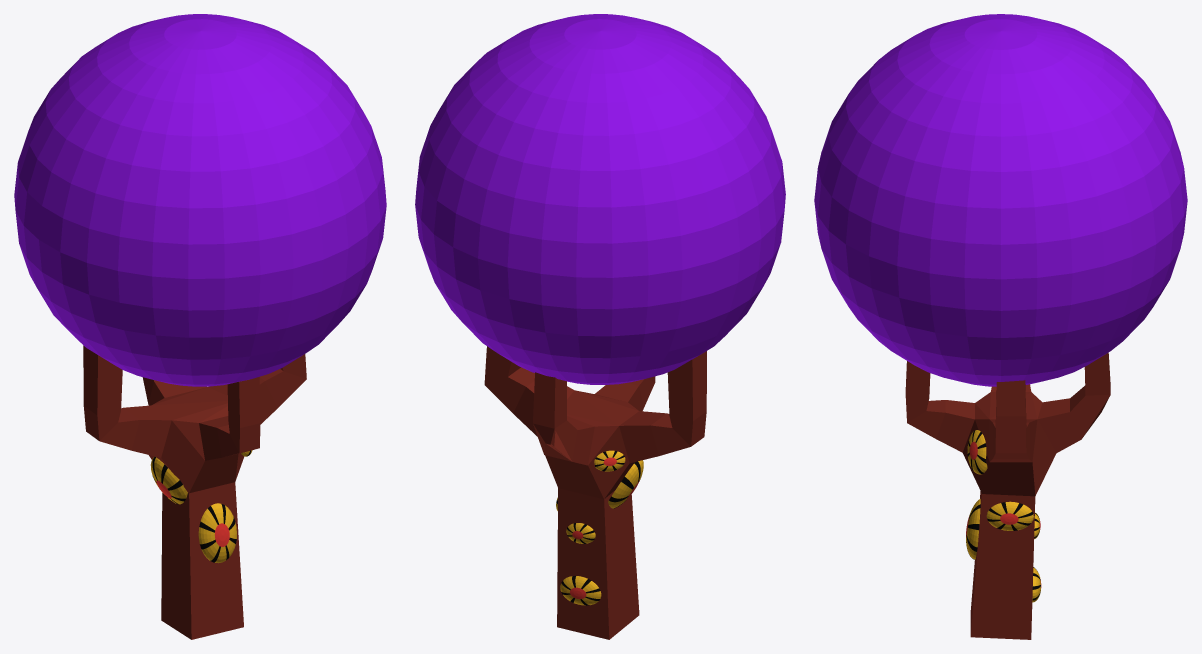
The model's file is DemonTree1.fbx.
The picture shows the model from 3 angles, left to right: view 1: azimuth 30°, elevation 25°; view 2: azimuth 150°, elevation 25°; view 3: azimuth 270°, elevation 25°; orthographic projection.
Visible parts, largest first — view 1: Cube.002; view 2: Cube.002; view 3: Cube.002.
Part boxes in pixels (bbox=[...]): Cube.002: bbox=[14, 14, 386, 639]; Cube.002: bbox=[415, 14, 785, 639]; Cube.002: bbox=[814, 14, 1187, 639].
Size of the model in its own units: 4.68 by 8.23 by 4.68.
